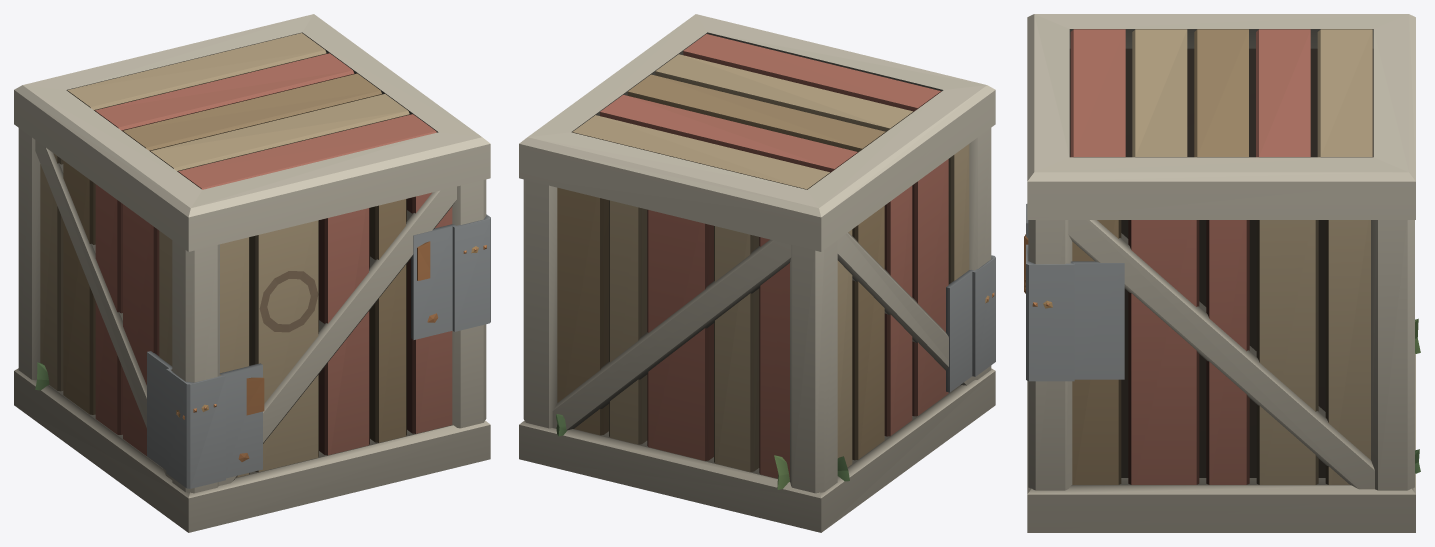
The model's file is crate.glb.
The picture shows the model from 3 angles, left to right: view 1: azimuth 30°, elevation 25°; view 2: azimuth 150°, elevation 25°; view 3: azimuth 270°, elevation 25°; orthographic projection. The views are drawn at different scales.
Visible parts, largest first — view 1: crate.001; view 2: crate.001; view 3: crate.001.
Part boxes in pixels (x1,y1,x2,y2): crate.001: (14, 14, 490, 532); crate.001: (519, 14, 995, 532); crate.001: (1024, 14, 1420, 532).
Size of the model in its own units: 0.9648 by 0.96 by 0.9654.
